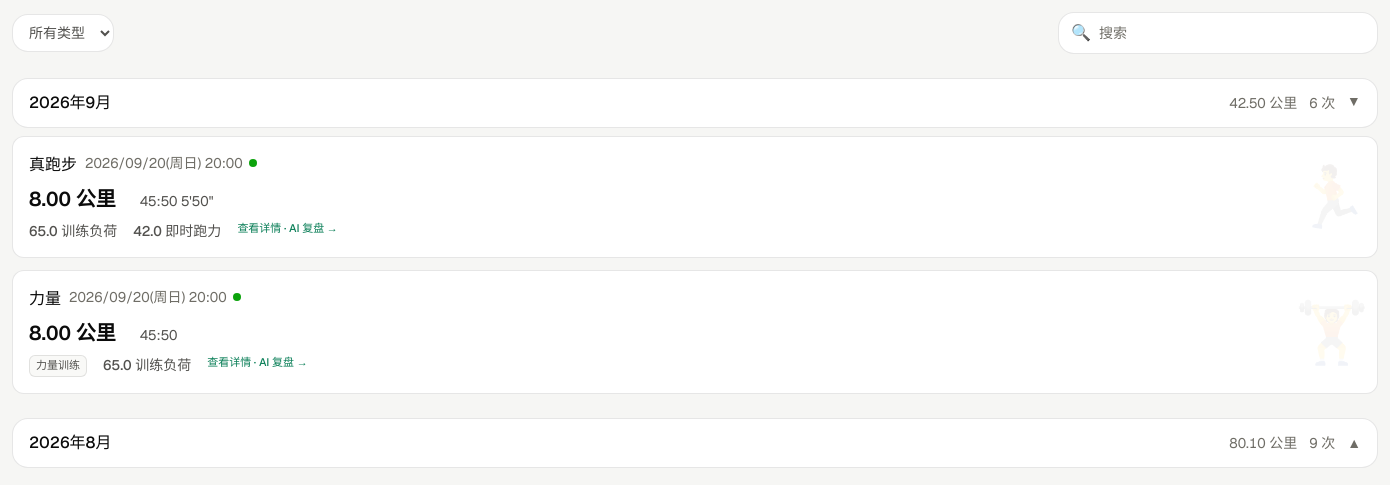
Test case: ListClient 活动列表 (交互/筛选/无限滚动) › 筛选「跑步」不会带出非跑步活动
Select "跑步" in the dropdown named "活动类型筛选": (63, 33) [12,14,114,52]
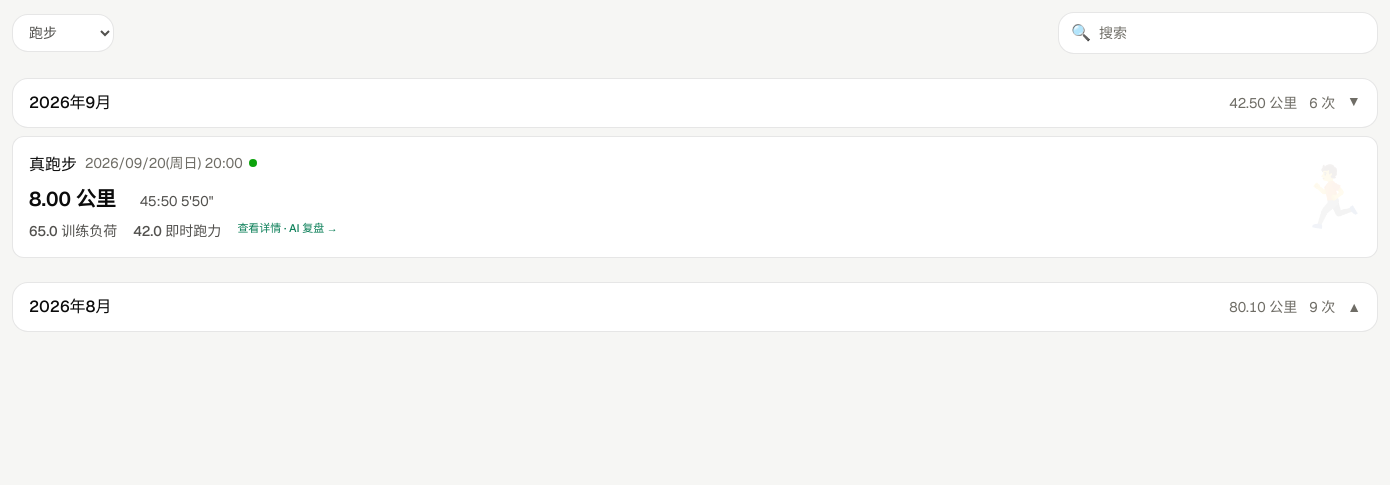
expect the button "真跑步" is shown: met, box [12,136,1378,258]
expect the button "力量" is gone: met
